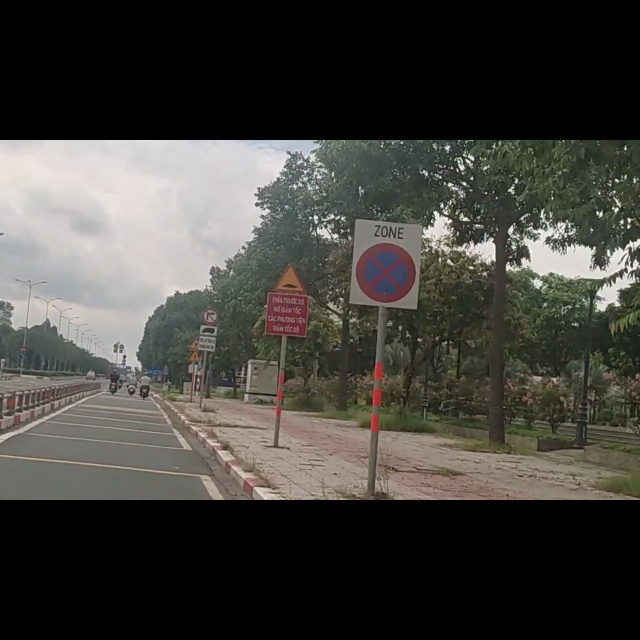bien_nguy_hiem: (351, 140, 421, 300), (273, 220, 305, 271), (198, 327, 217, 377), (201, 297, 218, 326)
